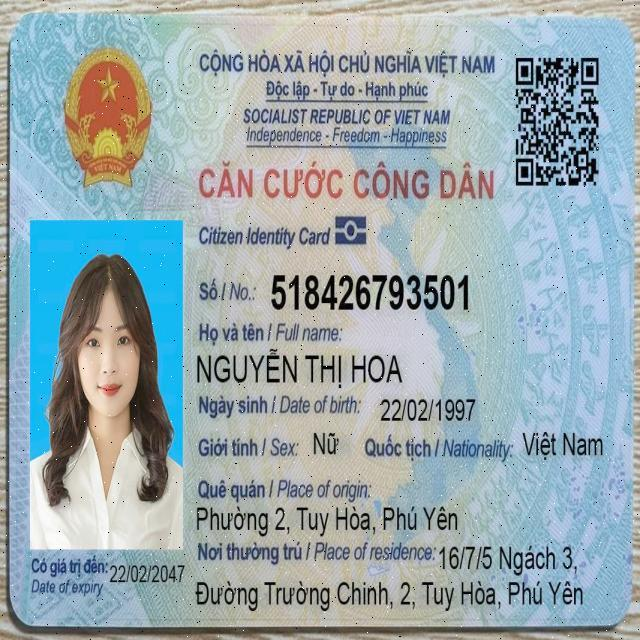current_place: (191, 576, 585, 614), (436, 539, 584, 580)
dob: (377, 390, 480, 430)
expire_date: (106, 555, 187, 590)
gender: (310, 423, 341, 463)
id: (268, 266, 475, 318)
name: (192, 342, 407, 391)
nationality: (519, 425, 607, 464)
origin_place: (192, 499, 462, 539)
qr: (511, 50, 604, 190)
